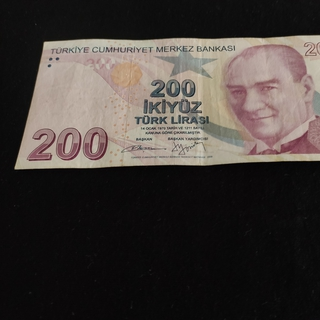200TLFront: (13, 35, 320, 170)
